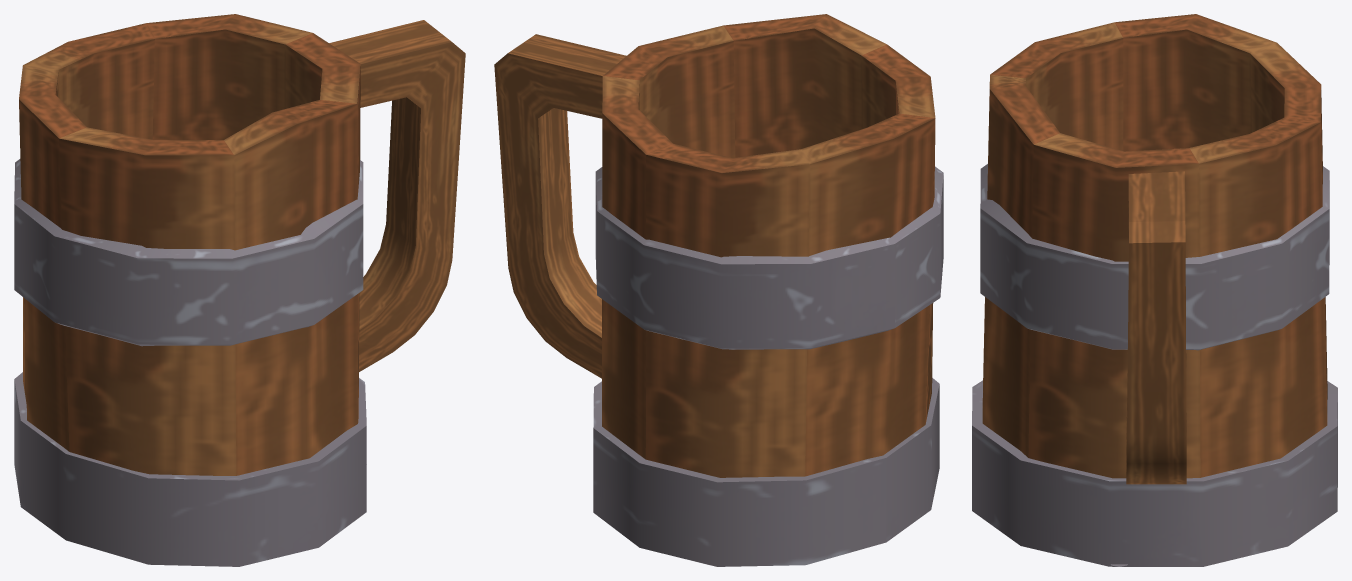
The model's file is mug.glb.
The picture shows the model from 3 angles, left to right: view 1: azimuth 30°, elevation 25°; view 2: azimuth 150°, elevation 25°; view 3: azimuth 270°, elevation 25°; orthographic projection. The views are drawn at different scales.
Visible parts, largest first — view 1: Mug; view 2: Mug; view 3: Mug.
Part boxes in pixels (left/top/right/bottom): Mug: left=14, top=14, right=465, bottom=566; Mug: left=494, top=14, right=943, bottom=566; Mug: left=972, top=14, right=1337, bottom=566.
Bounding box in the file's own units: 0.1921 × 0.1839 × 0.1468.
2 materials, 2 textured.
